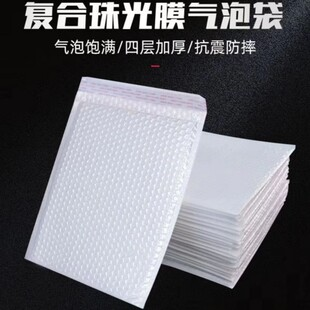塑料袋: (20, 60, 306, 310)
